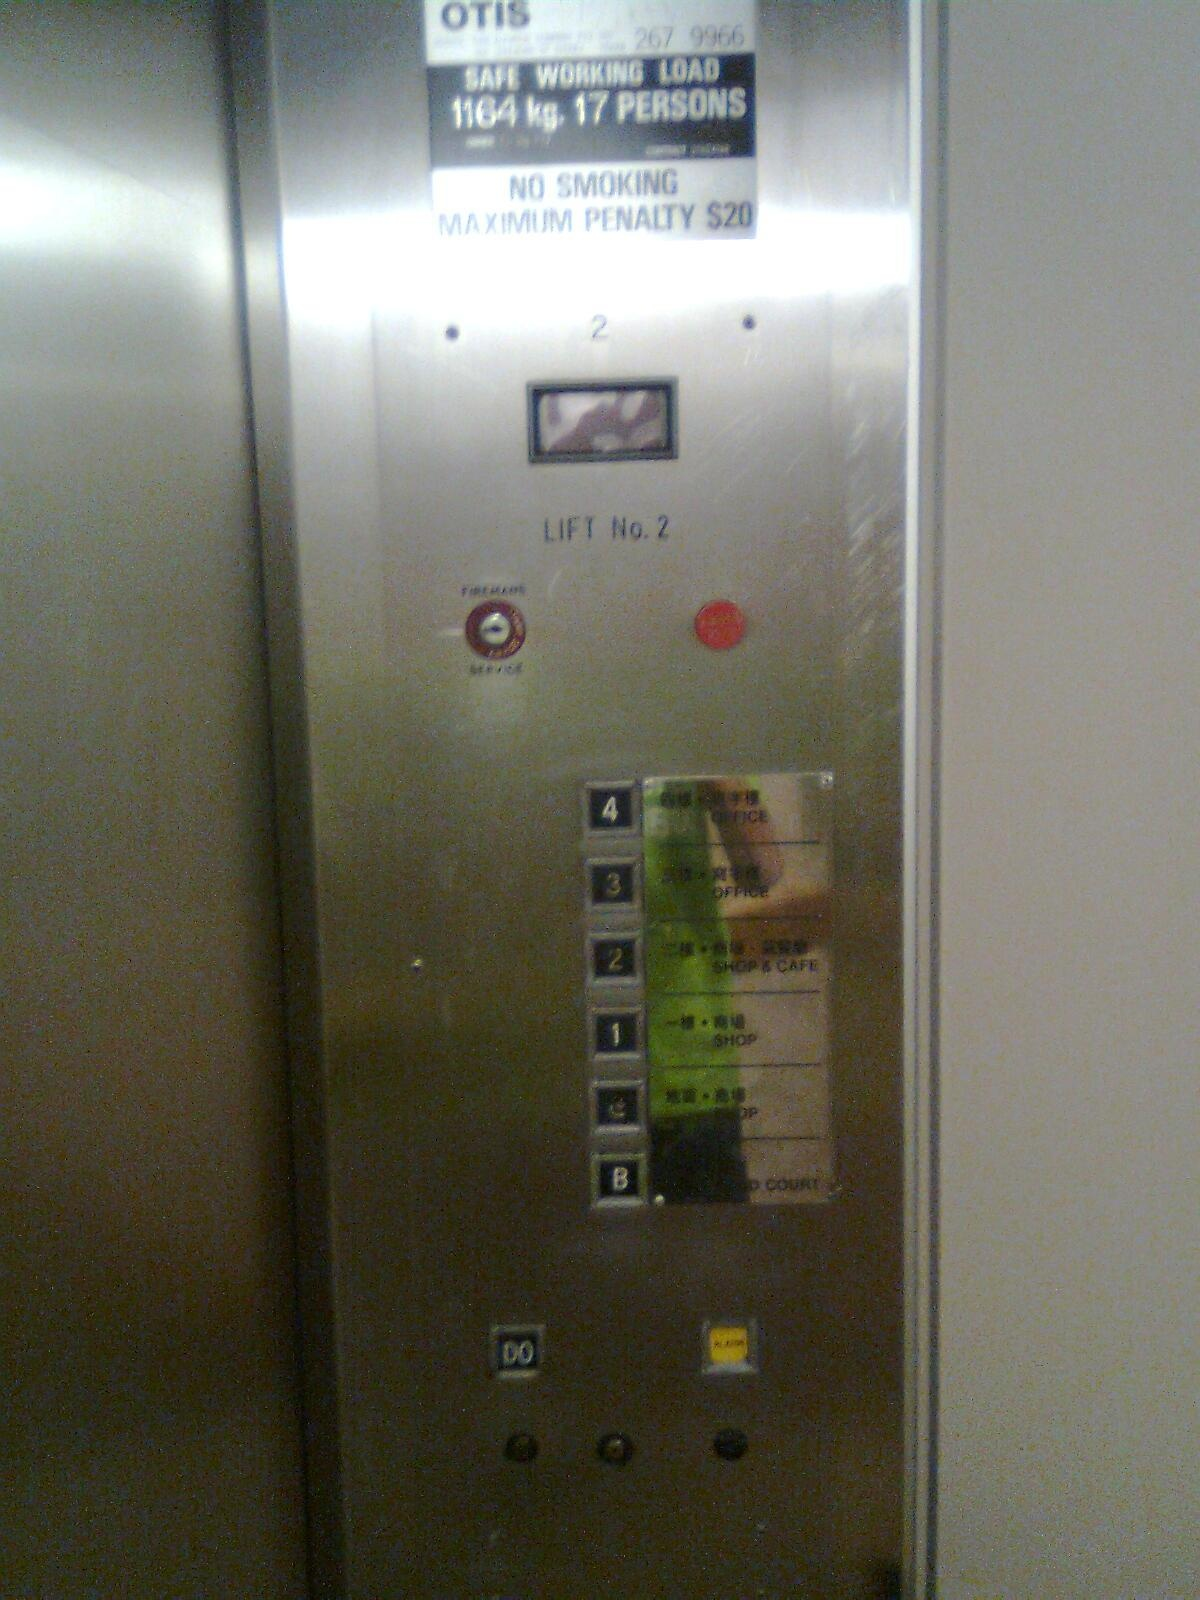1: (584, 1004, 649, 1066)
2: (580, 927, 647, 990)
3: (579, 850, 644, 915)
4: (579, 779, 643, 840)
B: (584, 1149, 650, 1213)
DO: (484, 1322, 547, 1383)
blur: (586, 1076, 650, 1141)
keyhole: (466, 600, 526, 663)
led: (524, 379, 679, 465)
text_alarm: (697, 1315, 761, 1377)
text_blur: (695, 598, 747, 651)
